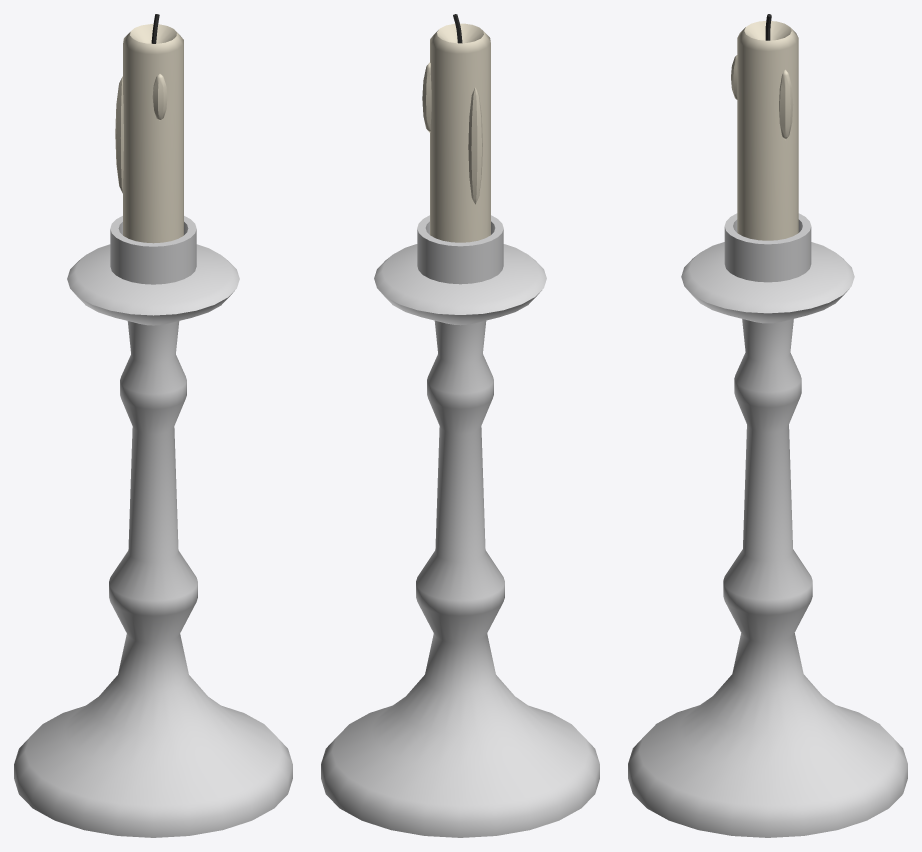
File: SM_Loot_Candlestick.fbx
3 views of the same model, side by side, from view 1: azimuth 30°, elevation 25°; view 2: azimuth 150°, elevation 25°; view 3: azimuth 270°, elevation 25° (orthographic).
Parts seen in each view (by area): view 1: SM_Loot_Candlestick; view 2: SM_Loot_Candlestick; view 3: SM_Loot_Candlestick.
Boxes of the visible parts, x1,y1,x2,y2 form: SM_Loot_Candlestick: [14, 14, 292, 837]; SM_Loot_Candlestick: [321, 14, 599, 837]; SM_Loot_Candlestick: [628, 14, 907, 837].
Bounding box in the file's own units: 10 × 30.22 × 10.
